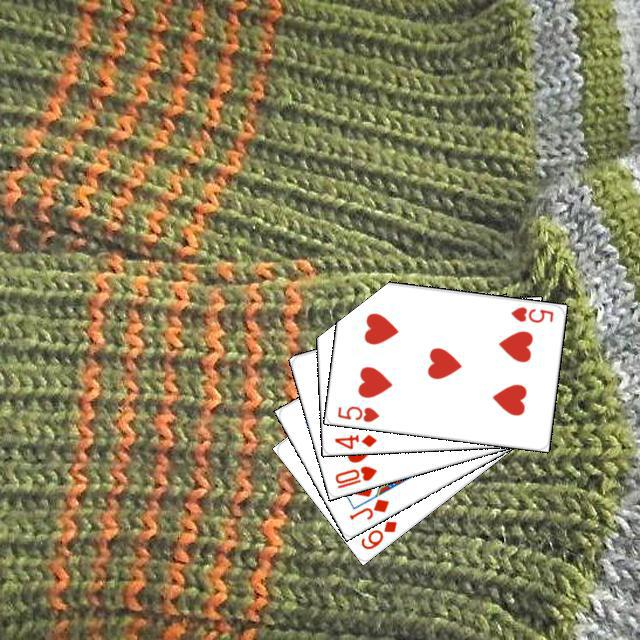10h: (330, 461, 379, 490)
4d: (330, 429, 378, 450)
5h: (332, 401, 381, 424), (506, 302, 555, 325)
6d: (356, 516, 399, 551)
Jd: (344, 494, 391, 521)
